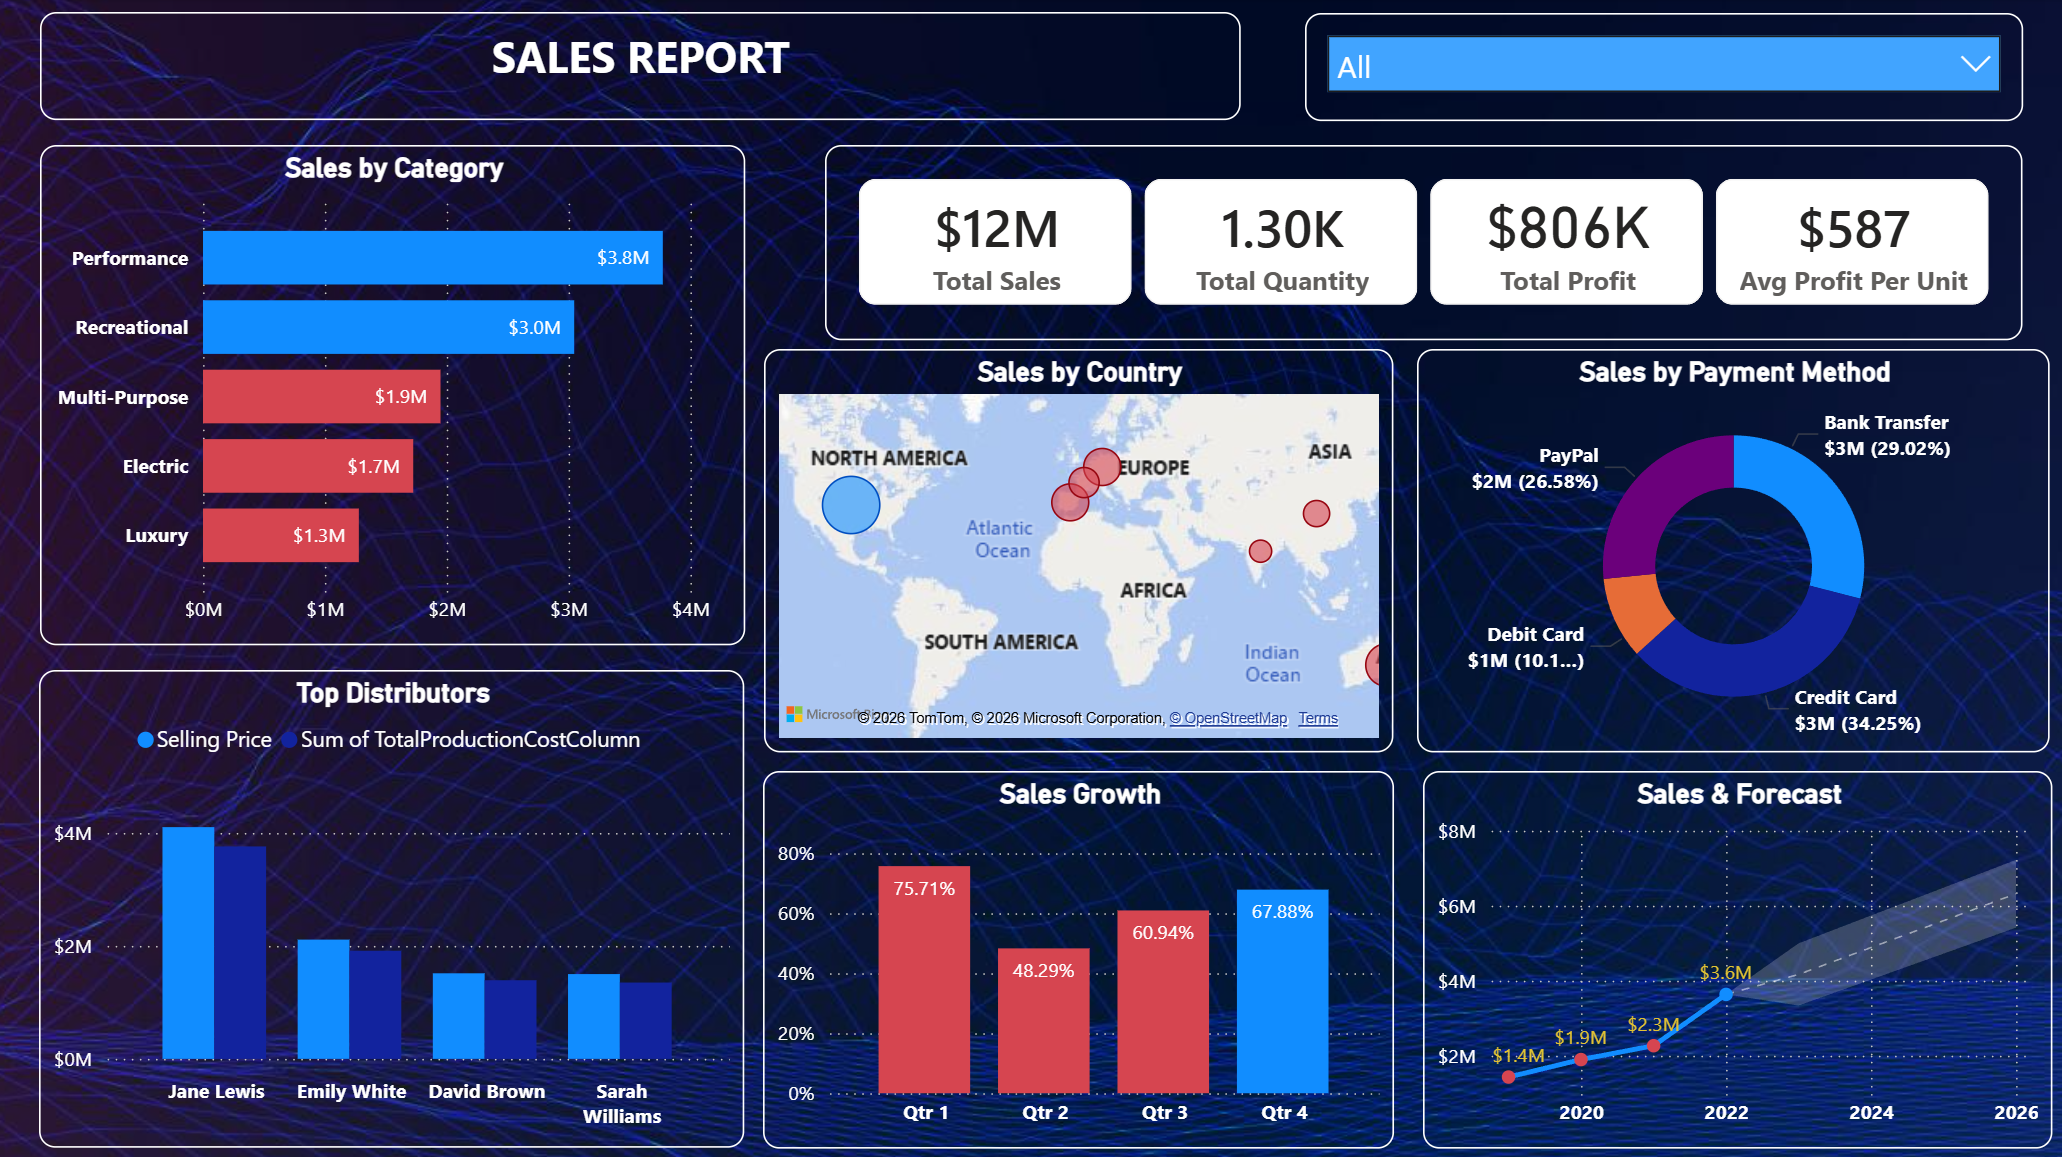

The dashboard page shown, as its layout file describes it:
{"tool":"powerbi","page":{"name":"Sales","canvas":[1280,720],"ordinal":0},"visuals":[{"type":"textbox","box":[25.4,8.1,744.5,66.9],"z":0},{"type":"cardVisual","fields":{"Data":["Sum(Sales.Sales($))","Sum(Sales.QuantitySold )","Sum(Sales.Profit)","Avg(Sales.  ProfitPerUnit)"]},"box":[511.6,90.7,742.3,120.7],"z":1000},{"type":"barChart","title":"Sales by Category","fields":{"Category":["Category.CategoryType"],"Y":["Sum(Sales.Sales($))"]},"box":[25.1,90.7,437.3,309.9],"z":2000},{"type":"clusteredColumnChart","title":"Top Distributors","fields":{"Category":["Distributor.FullName"],"Y":["Sum(Sales.Sales($))","Sum(Sales.TotalProductionCostColumn)"]},"box":[24.8,416,437.3,296.3],"z":3000},{"type":"clusteredColumnChart","title":"Sales Growth","fields":{"Category":["Sales.Date       .Variation.Date Hierarchy.Year","Sales.Date       .Variation.Date Hierarchy.Quarter","Sales.Date       .Variation.Date Hierarchy.Month","Sales.Date       .Variation.Date Hierarchy.Day"],"Y":["Sales.Sales($) YoY%"]},"box":[473.5,478.6,391.5,233.7],"z":4000},{"type":"lineChart","title":"Sales & Forecast","fields":{"Category":["Sales.Date       .Variation.Date Hierarchy.Year","Sales.Date       .Variation.Date Hierarchy.Quarter","Sales.Date       .Variation.Date Hierarchy.Month","Sales.Date       .Variation.Date Hierarchy.Day"],"Y":["Sum(Sales.Sales($))"]},"box":[882.4,478.6,390.5,233.7],"z":5000},{"type":"map","title":"Sales by Country","fields":{"Category":["Distributor.Country"],"Size":["Sum(Sales.Sales($))"]},"box":[473.8,216.8,389.6,249.9],"z":6000},{"type":"donutChart","title":"Sales by Payment Method","fields":{"Series":["Sales.Payment_Methods. PaymentMethod "],"Y":["Sum(Sales.Sales($))"]},"box":[878.7,216.8,392.3,249.9],"z":7000},{"type":"slicer","fields":{"Values":["Sales.Date       .Variation.Date Hierarchy.Year"]},"box":[808.9,8.7,445,66.6],"z":8000}]}

Visuals, with their boxes in screenshot pixels (x1, y1, x2, y2), scaled from the page's 1280x720 canvas onto the 2062x1157 screenshot:
textbox: box(41, 13, 1240, 121)
cardVisual - Sum(Sales.Sales($)) x Sum(Sales.QuantitySold ): box(824, 146, 2020, 340)
"Sales by Category" barChart: box(40, 146, 745, 644)
"Top Distributors" clusteredColumnChart: box(40, 668, 744, 1145)
"Sales Growth" clusteredColumnChart: box(763, 769, 1393, 1145)
"Sales & Forecast" lineChart: box(1421, 769, 2051, 1145)
"Sales by Country" map: box(763, 348, 1391, 750)
"Sales by Payment Method" donutChart: box(1416, 348, 2048, 750)
slicer - Sales.Date       .Variation.Date Hierarchy.Year: box(1303, 14, 2020, 121)
